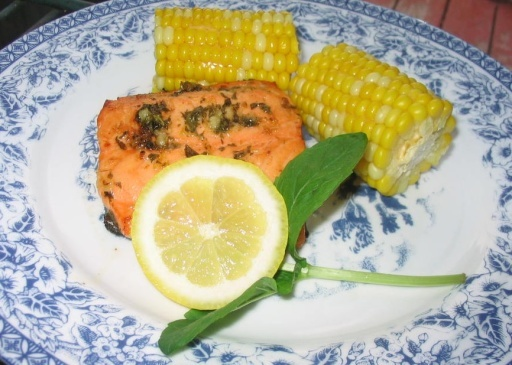background: (77, 3, 372, 202)
